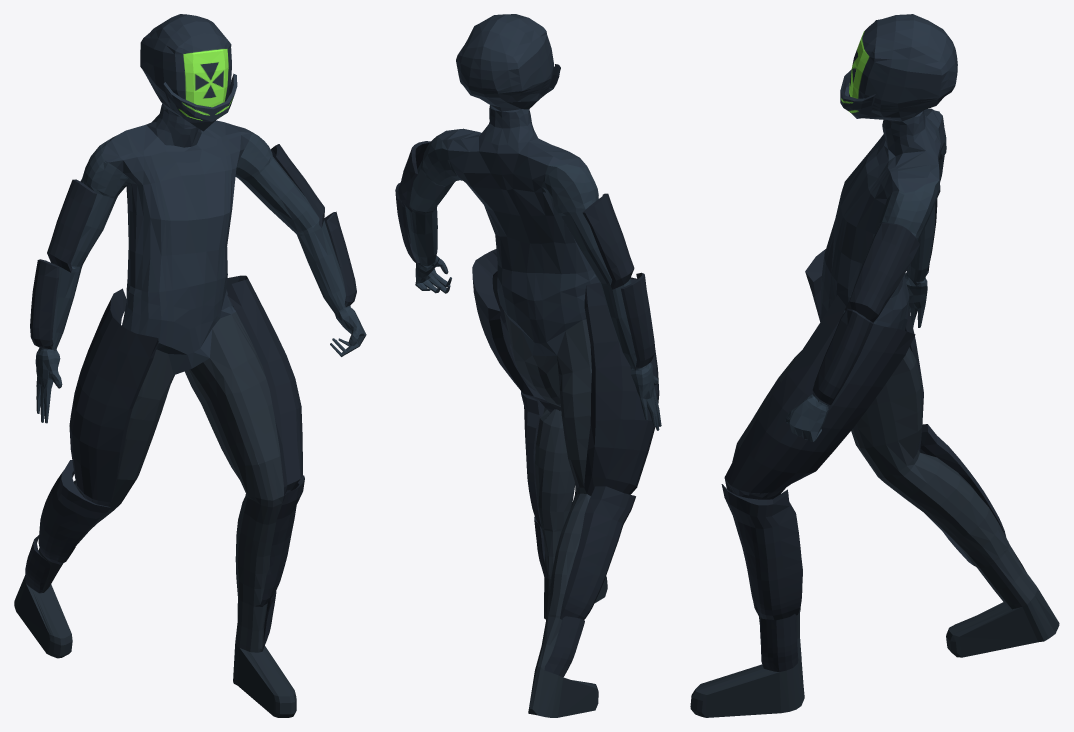
The model's file is Bastion_Hit_000011.obj.
3 views of the same model, side by side, from view 1: azimuth 30°, elevation 25°; view 2: azimuth 150°, elevation 25°; view 3: azimuth 270°, elevation 25° (orthographic). The views are drawn at different scales.
Visible parts, largest first — view 1: Cube.002; view 2: Cube.002; view 3: Cube.002.
Part boxes in pixels (<box>): Cube.002: <box>14,14,366,717</box>; Cube.002: <box>395,14,661,717</box>; Cube.002: <box>690,14,1059,717</box>.
Bounding box in the file's own units: 1.73 × 3.69 × 1.79.
